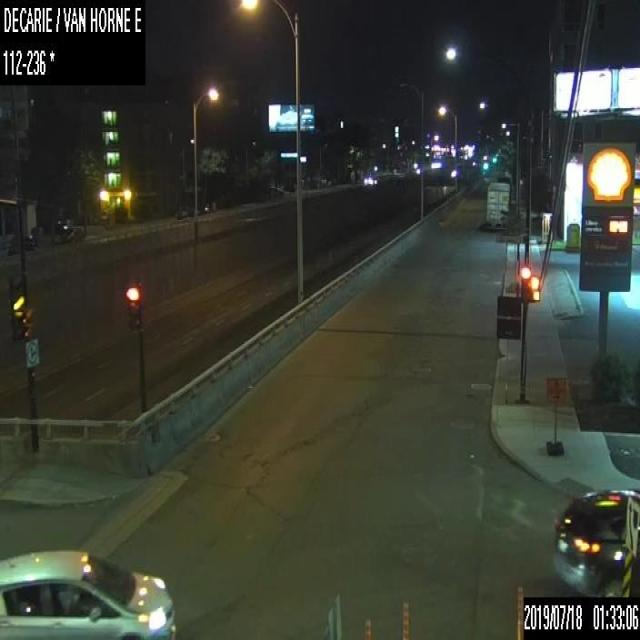construction: (544, 376, 566, 456), (514, 582, 524, 638), (401, 597, 410, 639), (362, 618, 370, 638)
vehicle: (0, 546, 175, 638), (551, 488, 639, 595), (486, 179, 509, 229)
